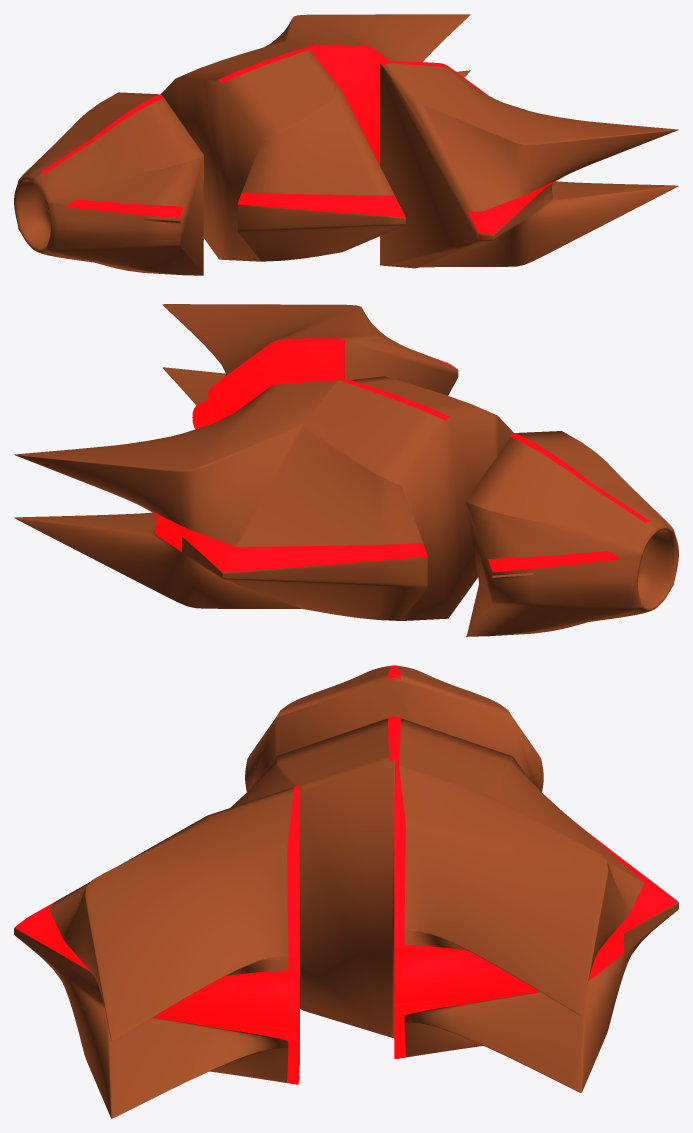
The model's file is swarmling_gibs.glb.
3 views of the same model, one above another, from view 1: azimuth 30°, elevation 25°; view 2: azimuth 150°, elevation 25°; view 3: azimuth 270°, elevation 25° (orthographic). The views are drawn at different scales.
Parts seen in each view (by area): view 1: Cube, Cube.002, Cube.001; view 2: Cube, Cube.001, Cube.002; view 3: Cube, Cube.002, Cube.001.
Boxes of the visible parts, x1,y1,x2,y2 form: Cube: [161, 14, 470, 261]; Cube.002: [380, 61, 678, 268]; Cube.001: [14, 92, 203, 275]; Cube: [14, 376, 513, 620]; Cube.001: [465, 431, 678, 636]; Cube.002: [162, 304, 458, 429]; Cube: [230, 716, 678, 1092]; Cube.002: [14, 785, 299, 1118]; Cube.001: [245, 665, 543, 791].
Size of the model in its own units: 6.33 by 2.26 by 4.86.
